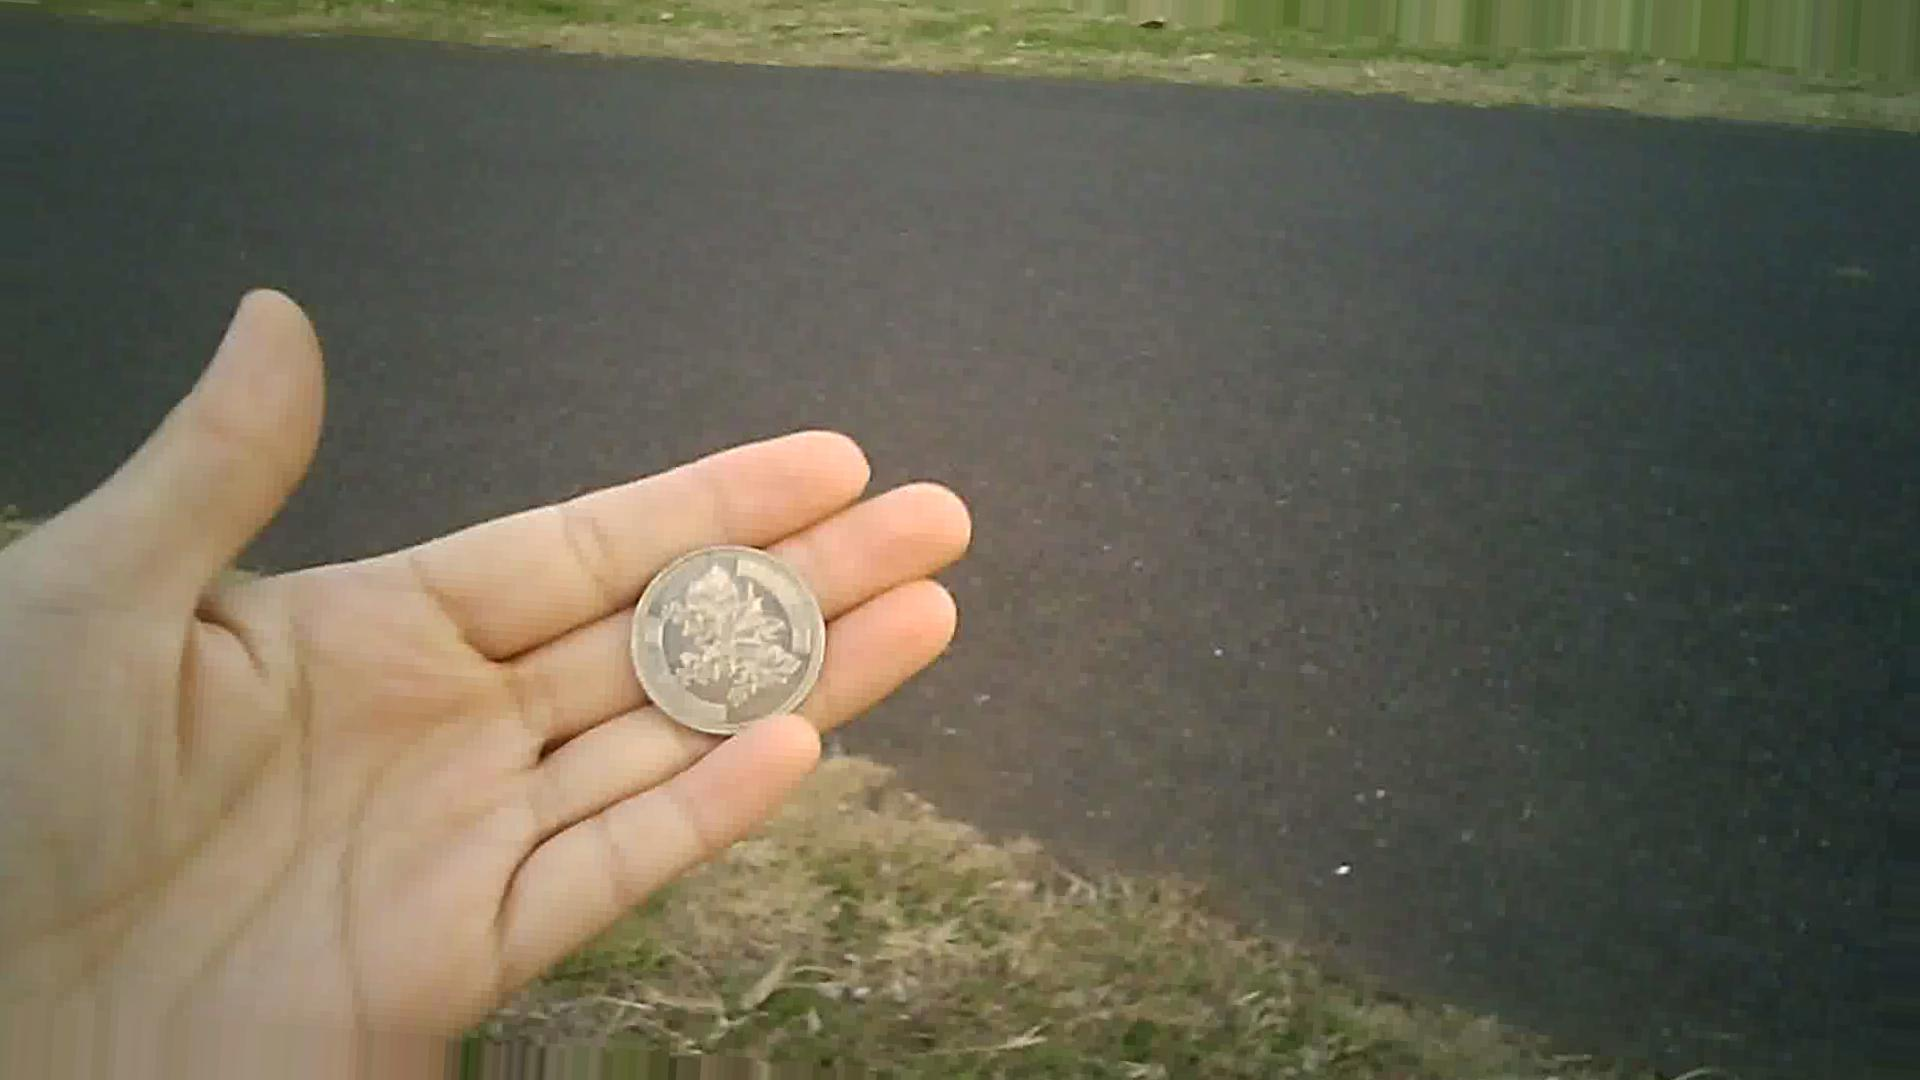500 Yen: (618, 530, 847, 753)
